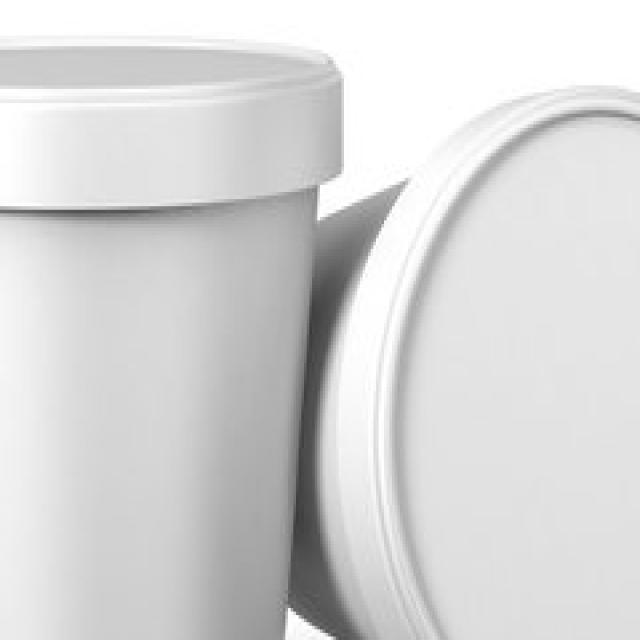yoghurt: (0, 32, 344, 640), (289, 83, 640, 640)
